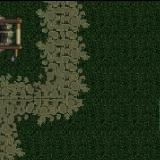Hide: (0, 0, 37, 73)
